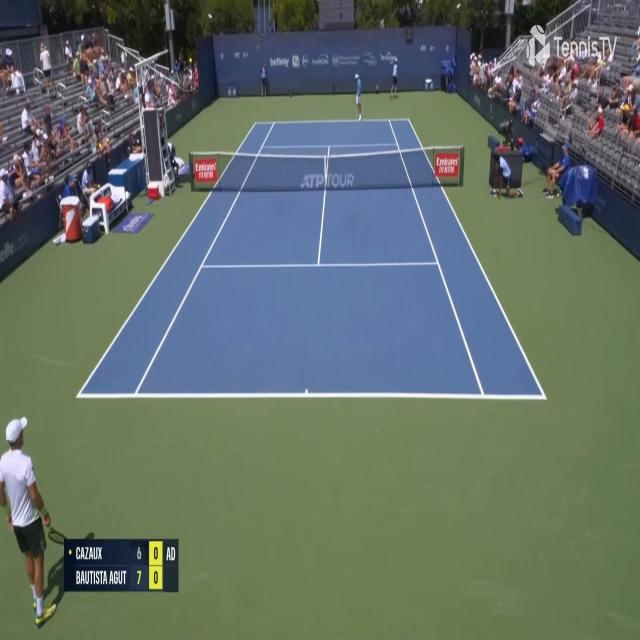tennis-player: (1, 411, 68, 628), (352, 73, 364, 124)
